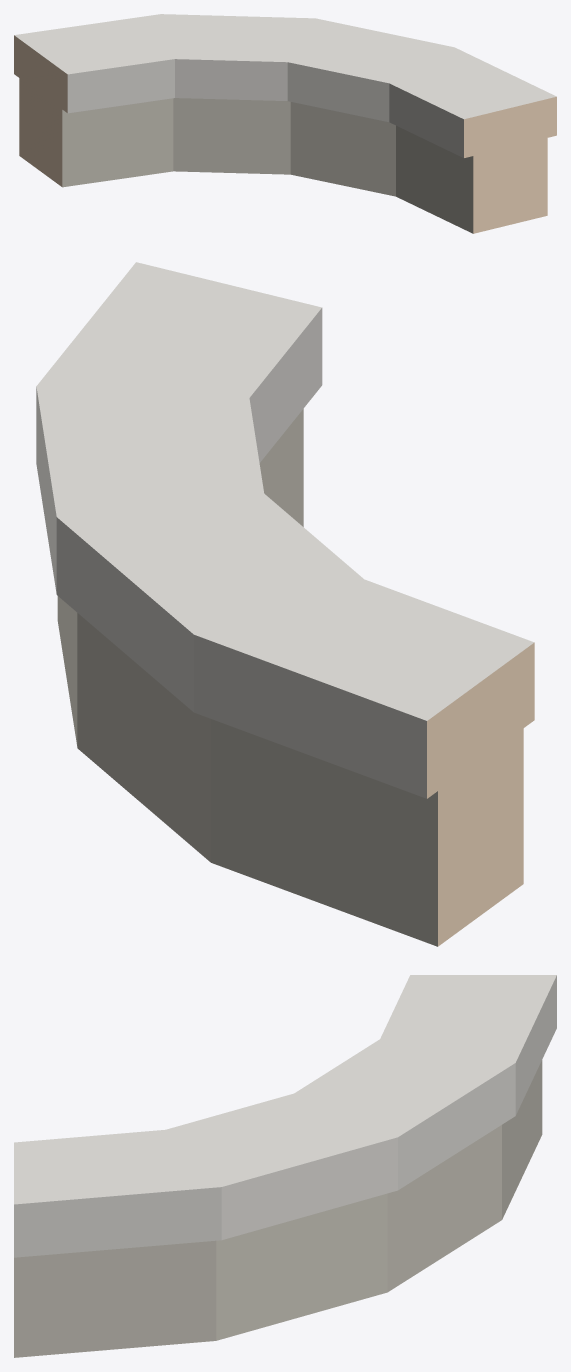
The model's file is Tiered_Retaining_Wall_Flat_Curve_1x1_Top.glb.
3 renders of one model, top to bottom at view 1: azimuth 30°, elevation 25°; view 2: azimuth 150°, elevation 25°; view 3: azimuth 270°, elevation 25°, orthographic. The views are drawn at different scales.
Visible parts, largest first — view 1: Tiered_Retaining_Wall_Flat_Curve_1x1_Top; view 2: Tiered_Retaining_Wall_Flat_Curve_1x1_Top; view 3: Tiered_Retaining_Wall_Flat_Curve_1x1_Top.
Boxes of the visible parts, box(x1,y1,x2,y2) form: Tiered_Retaining_Wall_Flat_Curve_1x1_Top: box(14, 14, 556, 233); Tiered_Retaining_Wall_Flat_Curve_1x1_Top: box(36, 262, 534, 946); Tiered_Retaining_Wall_Flat_Curve_1x1_Top: box(14, 975, 556, 1357).
Bounding box in the file's own units: 116 × 37.5 × 116.
